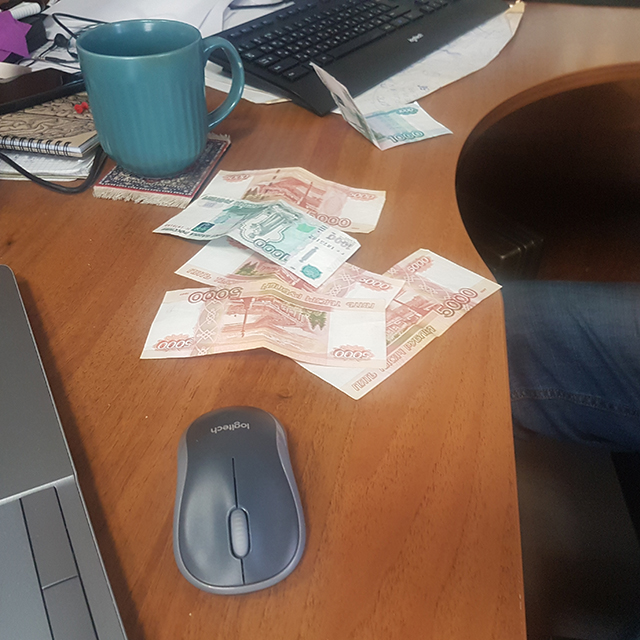banknotes: (343, 246, 502, 403), (137, 281, 389, 365), (152, 196, 360, 282), (202, 163, 387, 233)
